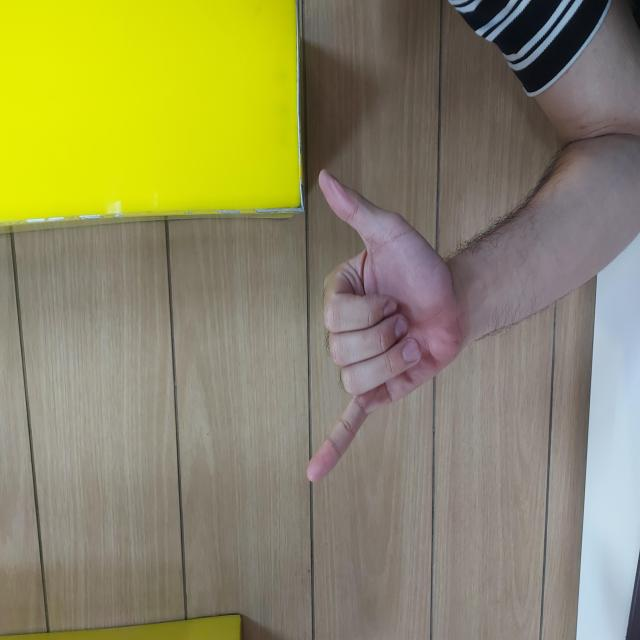Y: (155, 303, 471, 467)
